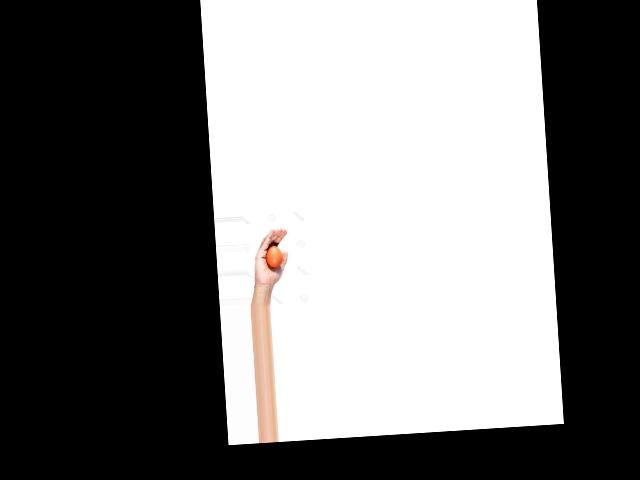egg: (265, 245, 282, 267)
